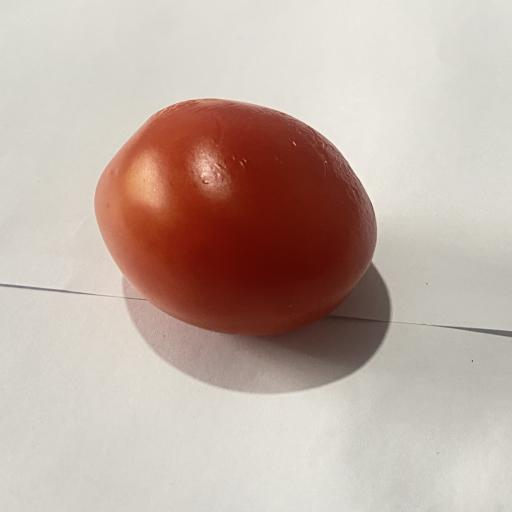spoiled: (95, 99, 376, 334)
